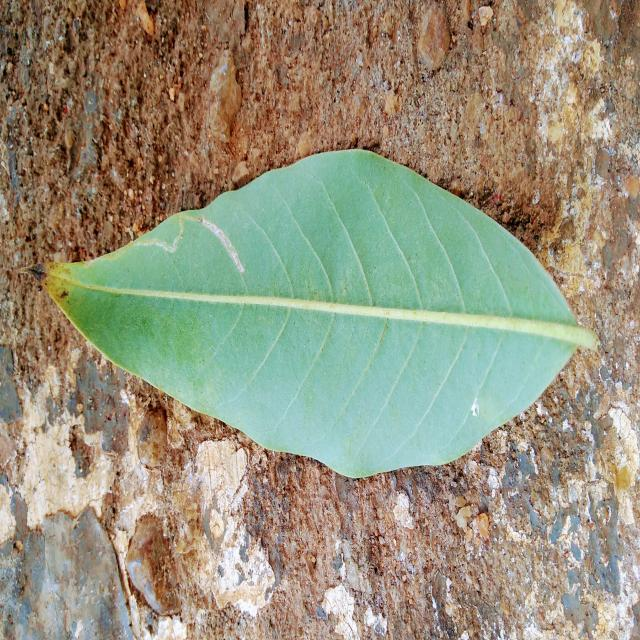sampige: (30, 151, 598, 478)
